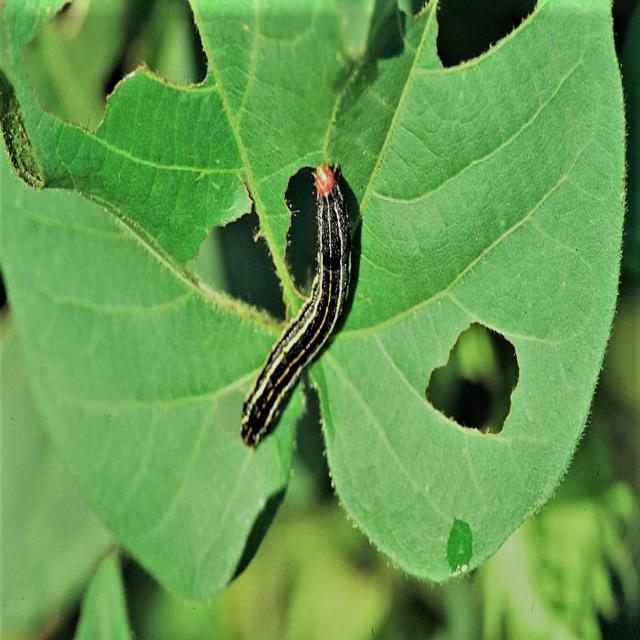armyworm: (239, 160, 352, 448)
